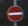No entry: (6, 5, 23, 21)
